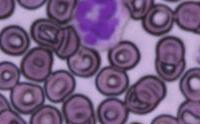N: (72, 0, 130, 49)
